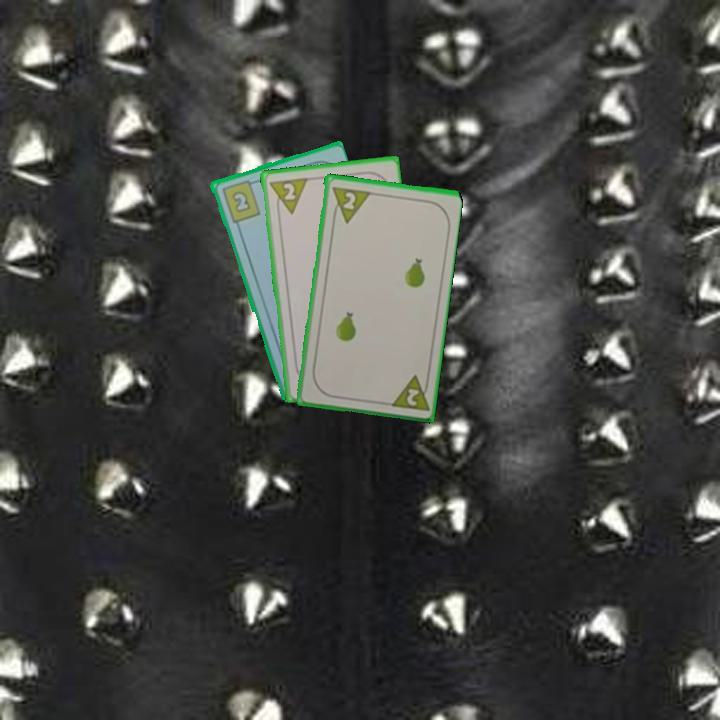2b: (218, 176, 263, 225)
2p: (265, 174, 310, 218), (386, 371, 432, 414), (328, 183, 372, 225)
